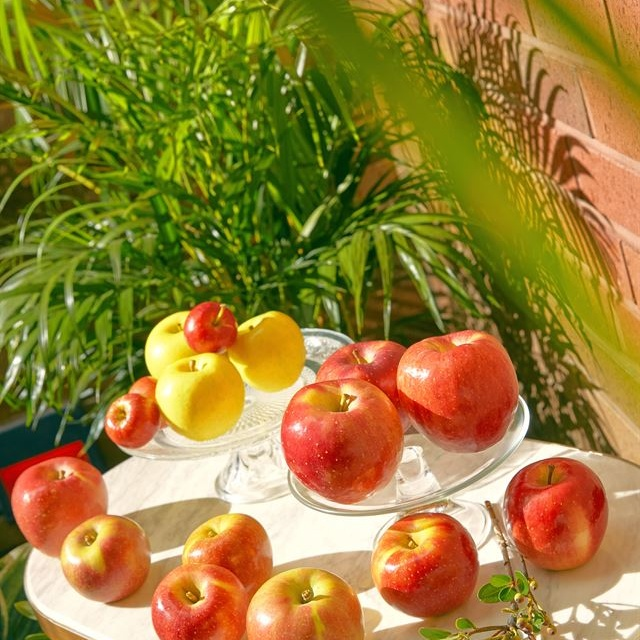apple: (393, 325, 514, 454), (287, 375, 398, 512), (499, 453, 612, 567), (370, 511, 482, 614), (313, 336, 421, 423), (9, 456, 111, 547), (243, 567, 365, 640), (58, 515, 159, 596), (182, 516, 281, 598), (151, 564, 246, 640), (106, 392, 160, 448), (176, 309, 237, 356)
